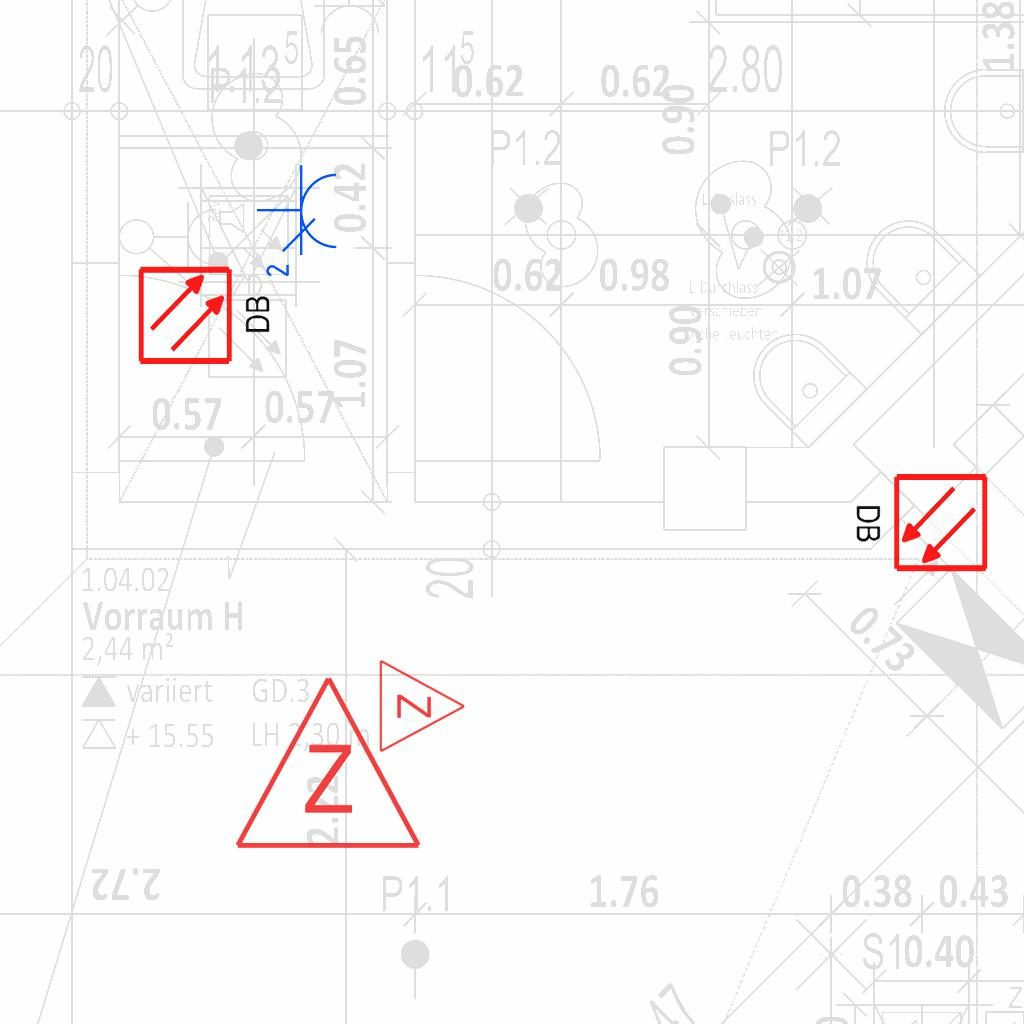DB_Melder_in_Doppelboden_mit_Revisionsoeffnung_mind_40_x_40_cm: (131, 257, 280, 371), (846, 467, 995, 581)
Schukosteckdose_mehrfach: (255, 163, 343, 284)
Zimmersignalleuchte: (228, 663, 424, 863), (372, 656, 472, 754)
